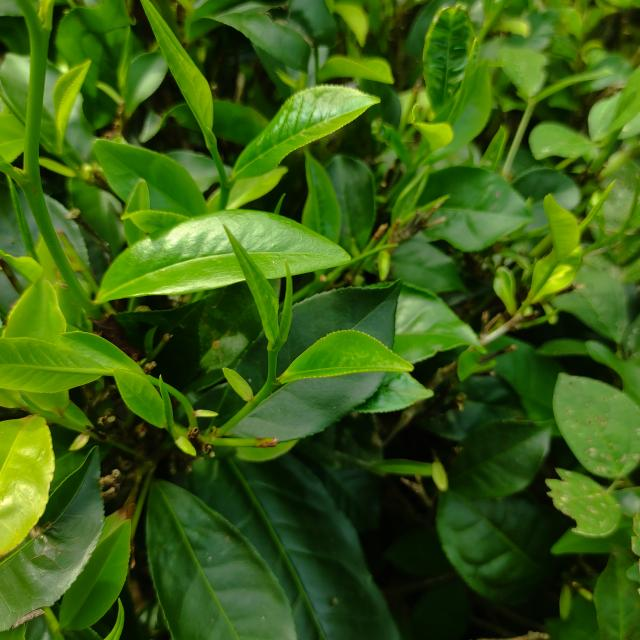unopened_leaf: (320, 237, 406, 293), (571, 169, 622, 247), (5, 170, 44, 272), (270, 257, 304, 361), (152, 369, 180, 442), (94, 590, 130, 640)
